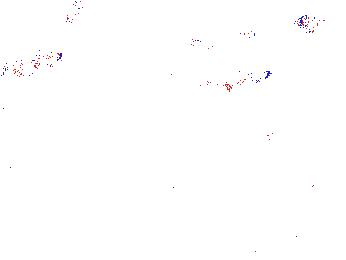X-ray fish: (293, 14, 334, 37), (292, 80, 308, 112)
red belly glassfish: (230, 30, 258, 43), (190, 32, 208, 52)
redtail glassfish: (1, 48, 65, 78), (205, 67, 273, 91)
